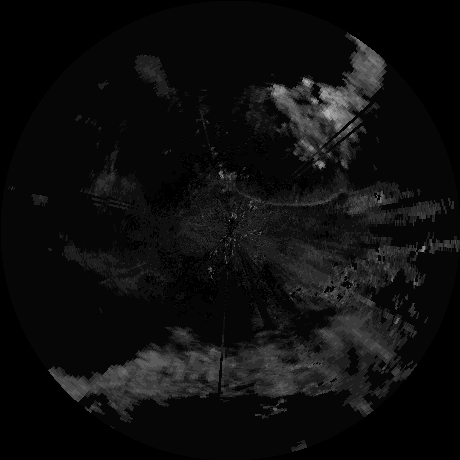frontgust: (235, 187, 347, 208)
